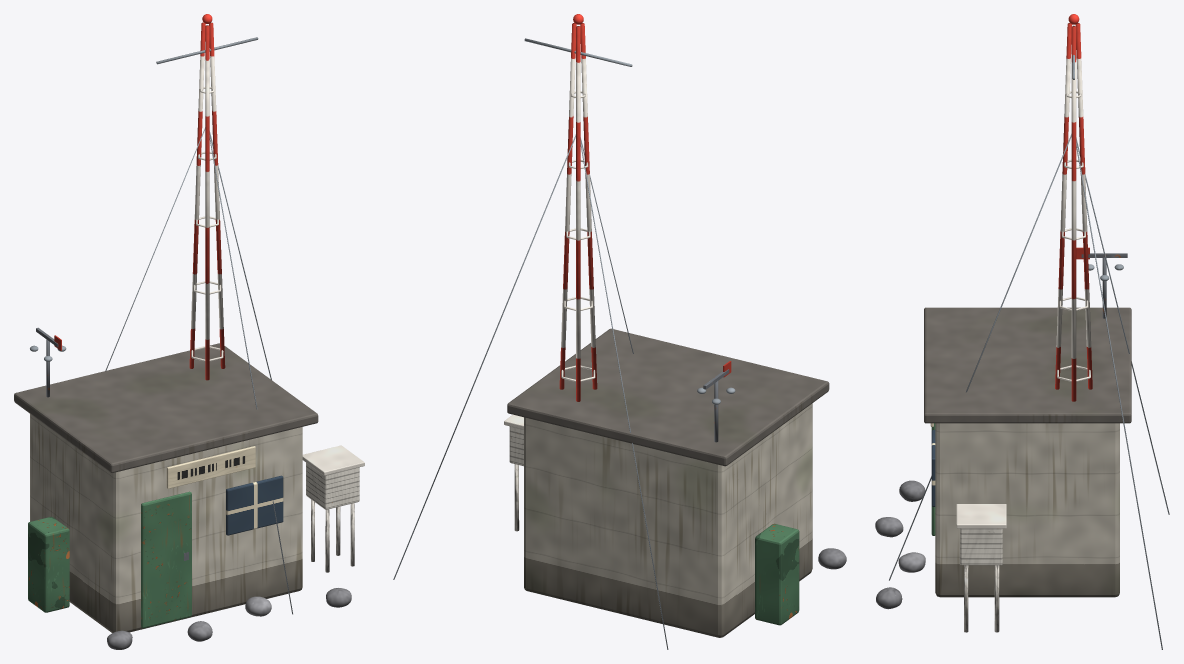
The model's file is met_station.glb.
The picture shows the model from 3 angles, left to right: view 1: azimuth 30°, elevation 25°; view 2: azimuth 150°, elevation 25°; view 3: azimuth 270°, elevation 25°; orthographic projection. The views are drawn at different scales.
Parts seen in each view (by area): view 1: MetStation; view 2: MetStation; view 3: MetStation.
Part boxes in pixels (box(x1,y1,x2,y2)): MetStation: box(14, 14, 364, 649); MetStation: box(393, 14, 846, 649); MetStation: box(875, 14, 1169, 649).
Bounding box in the file's own units: 5.06 × 8.17 × 3.83.
Materials: 1 (1 with a texture image).
